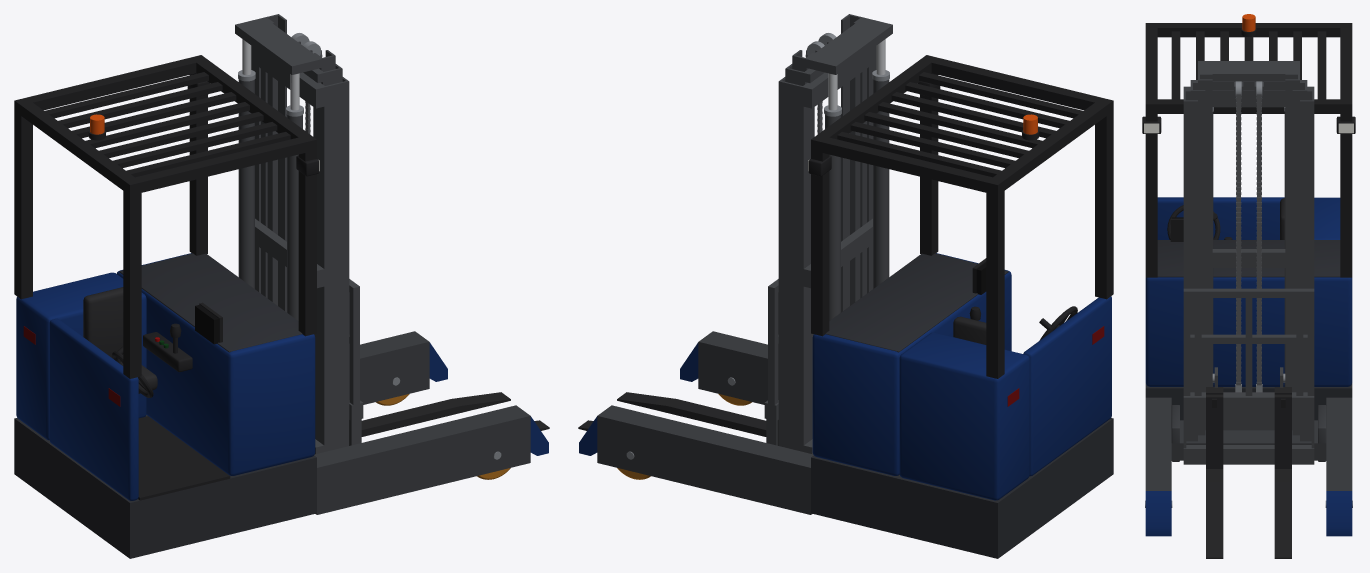
The model's file is electric-reach-truck-1-6-t-moving-mast.glb.
3 renders of one model, left to right at view 1: azimuth 30°, elevation 25°; view 2: azimuth 150°, elevation 25°; view 3: azimuth 270°, elevation 25°, orthographic. The views are drawn at different scales.
Visible parts, largest first — view 1: Chassis and battery compartment, Overhead guard, Base legs, Mast outer stage, Mast inner stage, Lift cylinders, Operator seat and controls, Fork right, Fork carriage with load backrest, Mast intermediate stage; view 2: Chassis and battery compartment, Overhead guard, Base legs, Mast outer stage, Mast inner stage, Lift cylinders, Fork left, Fork carriage with load backrest, Mast intermediate stage, Operator seat and controls; view 3: Chassis and battery compartment, Overhead guard, Mast outer stage, Fork carriage with load backrest, Base legs, Mast inner stage, Mast intermediate stage, Lift chains, Fork left, Fork right, Reach carriage (moving mast base) with reach cylinders, Lift cylinders (+1 smaller).
Part boxes in pixels (x1,y1,x2,y2): Chassis and battery compartment: (14, 253, 316, 558); Overhead guard: (14, 55, 319, 378); Base legs: (314, 331, 548, 514); Mast outer stage: (251, 46, 349, 454); Mast inner stage: (235, 14, 335, 334); Lift cylinders: (238, 70, 303, 320); Operator seat and controls: (83, 287, 192, 393); Fork right: (361, 392, 510, 436); Fork carriage with load backrest: (349, 279, 363, 445); Mast intermediate stage: (261, 64, 342, 438); Chassis and battery compartment: (811, 253, 1113, 558); Overhead guard: (808, 55, 1113, 378); Base legs: (579, 331, 813, 514); Mast outer stage: (778, 46, 876, 454); Mast inner stage: (792, 14, 892, 334); Lift cylinders: (824, 70, 889, 320); Fork left: (617, 392, 766, 436); Fork carriage with load backrest: (764, 279, 778, 445); Mast intermediate stage: (785, 64, 866, 438); Operator seat and controls: (953, 306, 986, 344); Chassis and battery compartment: (1145, 197, 1352, 420); Overhead guard: (1142, 14, 1355, 277); Mast outer stage: (1183, 86, 1314, 441); Fork carriage with load backrest: (1183, 288, 1314, 464); Base legs: (1145, 397, 1352, 536); Mast inner stage: (1198, 61, 1299, 429); Mast intermediate stage: (1190, 80, 1307, 435); Lift chains: (1235, 94, 1262, 392); Fork left: (1206, 387, 1223, 558); Fork right: (1274, 387, 1291, 558); Reach carriage (moving mast base) with reach cylinders: (1171, 405, 1326, 461); Lift cylinders: (1212, 107, 1285, 386).
Bounding box in the file's own units: 2.72 × 2.5 × 1.24.
Materials: 18 (18 with a texture image).
